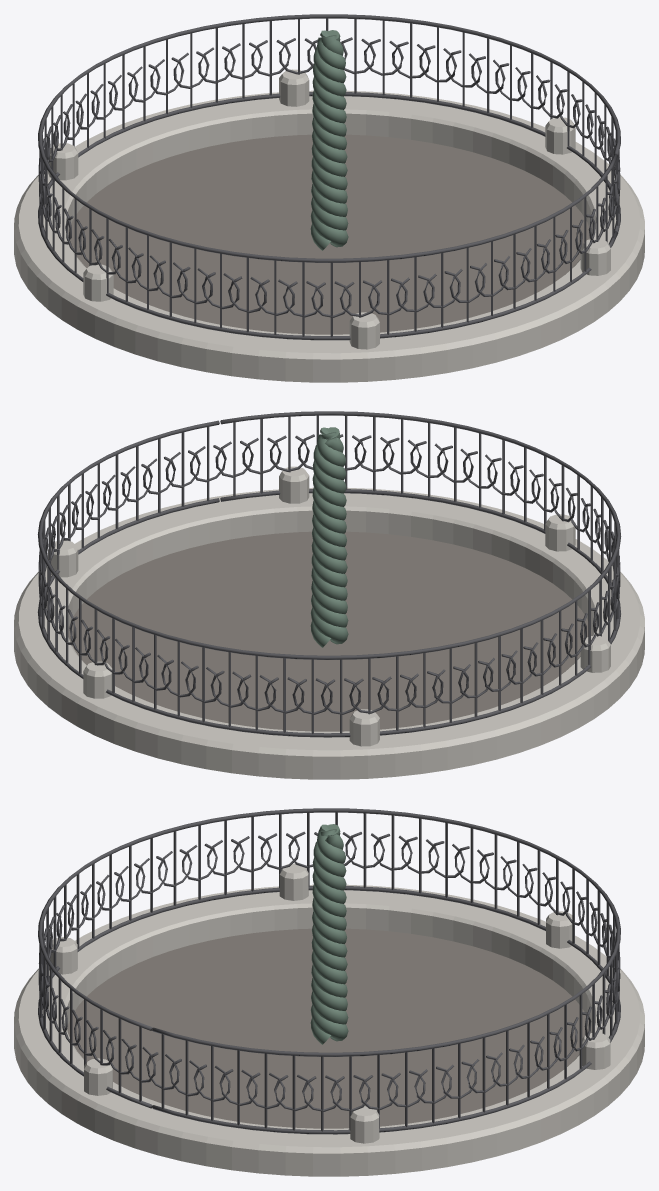
The model's file is serpent-column.glb.
3 views of the same model, one above another, from view 1: azimuth 30°, elevation 25°; view 2: azimuth 150°, elevation 25°; view 3: azimuth 270°, elevation 25° (orthographic).
Visible parts, largest first — view 1: serpent-column; view 2: serpent-column; view 3: serpent-column.
Part boxes in pixels (x1,y1,x2,y2): serpent-column: (14,14,644,382); serpent-column: (14,411,644,779); serpent-column: (14,808,644,1176).
Size of the model in its own units: 7.9 by 2.99 by 7.9.
